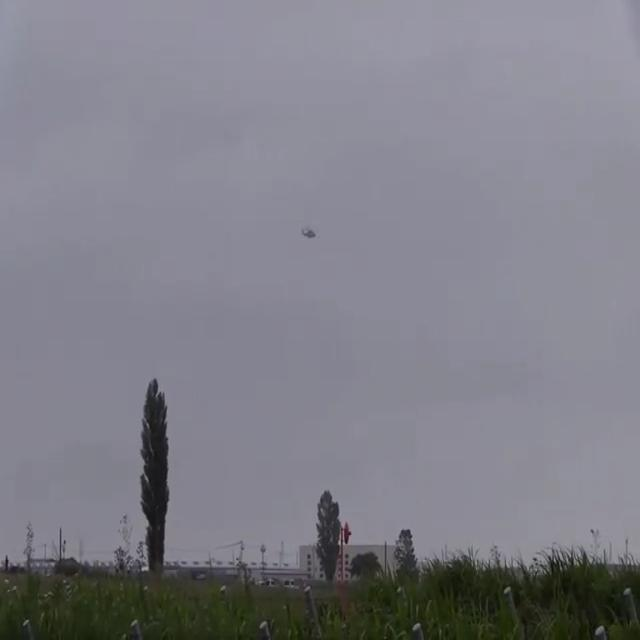Helicopter: (294, 220, 322, 246)
